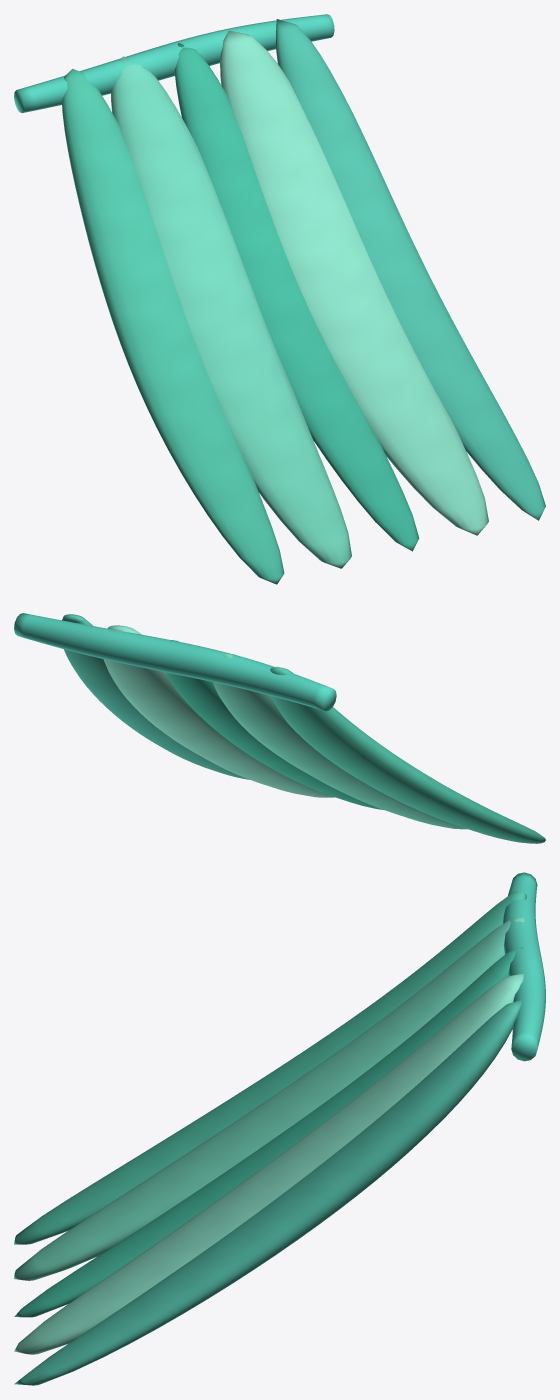
The model's file is candy-fall-volume.glb.
The picture shows the model from 3 angles, top to bottom: view 1: azimuth 30°, elevation 25°; view 2: azimuth 150°, elevation 25°; view 3: azimuth 270°, elevation 25°; orthographic projection. The views are drawn at different scales.
Parts seen in each view (by area): view 1: Fall stream 4, Fall stream 2, Fall stream 1, Fall stream 3, Fall stream 5, Rolled fall crest; view 2: Fall stream 1, Rolled fall crest, Fall stream 4, Fall stream 2, Fall stream 3, Fall stream 5; view 3: Fall stream 5, Fall stream 2, Fall stream 4, Fall stream 1, Fall stream 3, Rolled fall crest.
Part boxes in pixels (left/top/right/bottom): Fall stream 4: left=220, top=30, right=488, bottom=535; Fall stream 2: left=111, top=56, right=351, bottom=568; Fall stream 1: left=62, top=68, right=284, bottom=584; Fall stream 3: left=174, top=43, right=419, bottom=551; Fall stream 5: left=275, top=19, right=545, bottom=520; Rolled fall crest: left=14, top=14, right=334, bottom=112; Fall stream 1: left=270, top=666, right=545, bottom=843; Rolled fall crest: left=14, top=613, right=336, bottom=711; Fall stream 4: left=103, top=625, right=334, bottom=797; Fall stream 2: left=213, top=654, right=467, bottom=829; Fall stream 3: left=166, top=640, right=383, bottom=809; Fall stream 5: left=62, top=614, right=249, bottom=779; Fall stream 5: left=14, top=999, right=523, bottom=1385; Fall stream 2: left=14, top=917, right=524, bottom=1280; Fall stream 4: left=14, top=974, right=523, bottom=1354; Fall stream 1: left=14, top=890, right=526, bottom=1244; Fall stream 3: left=14, top=947, right=523, bottom=1317; Rolled fall crest: left=503, top=872, right=545, bottom=1061.
Size of the model in its own units: 0.9842 by 1 by 1.31.
